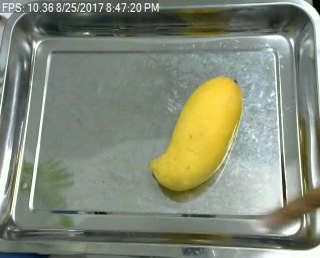Mango: (143, 73, 249, 191)
